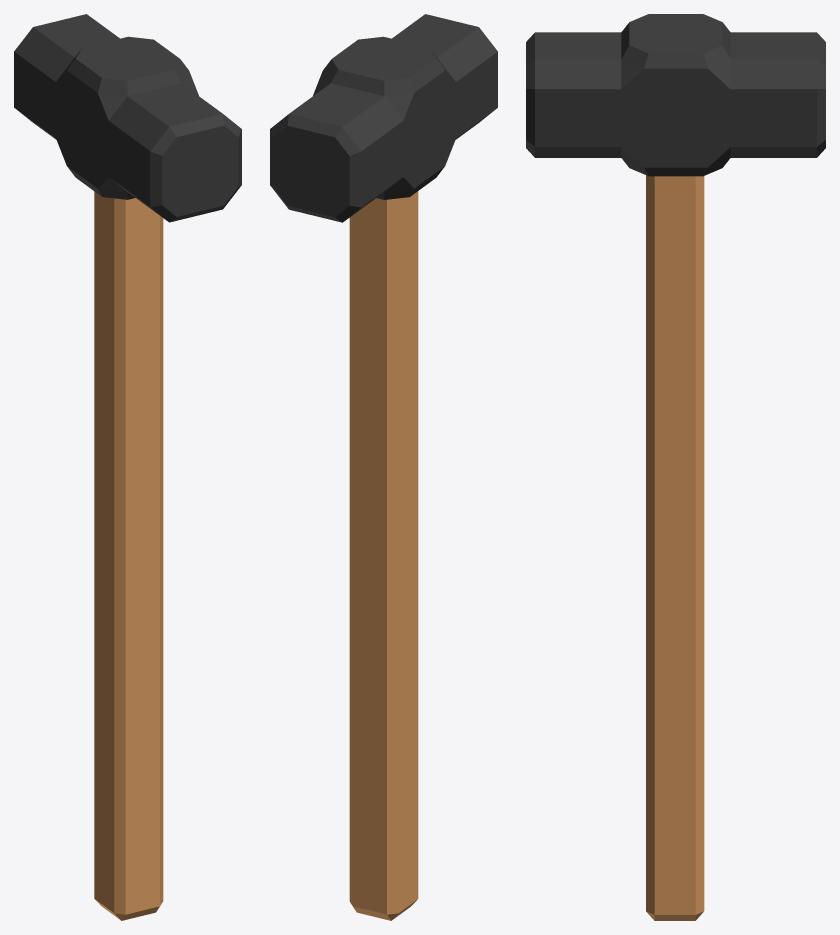
The model's file is Sledgehammer.glb.
3 renders of one model, left to right at view 1: azimuth 30°, elevation 25°; view 2: azimuth 150°, elevation 25°; view 3: azimuth 270°, elevation 25°, orthographic. The views are drawn at different scales.
Parts seen in each view (by area): view 1: Sledgehammer; view 2: Sledgehammer; view 3: Sledgehammer.
Boxes of the visible parts, bbox=[...] form: Sledgehammer: bbox=[14, 14, 241, 920]; Sledgehammer: bbox=[270, 14, 497, 920]; Sledgehammer: bbox=[526, 14, 825, 920].
Size of the model in its own units: 16.57 by 147 by 45.54.
